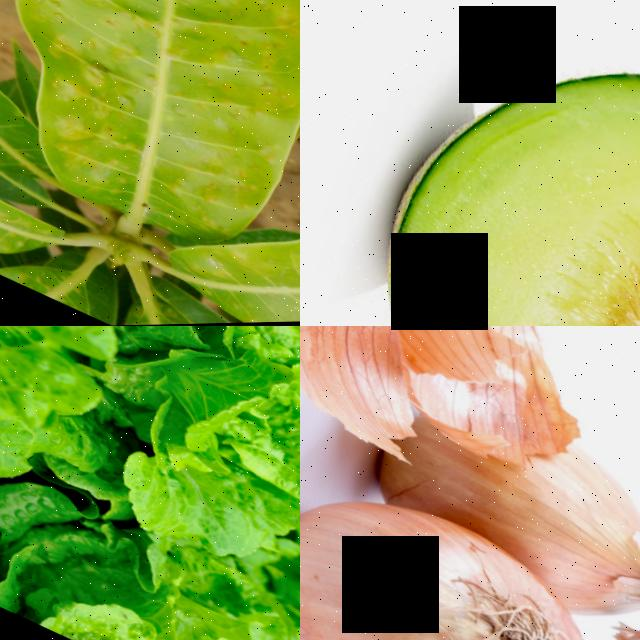lettuce: (63, 326, 300, 602), (0, 475, 295, 640), (0, 326, 201, 530)
melon: (300, 0, 640, 326)
onion: (362, 390, 640, 631), (300, 474, 626, 640)
